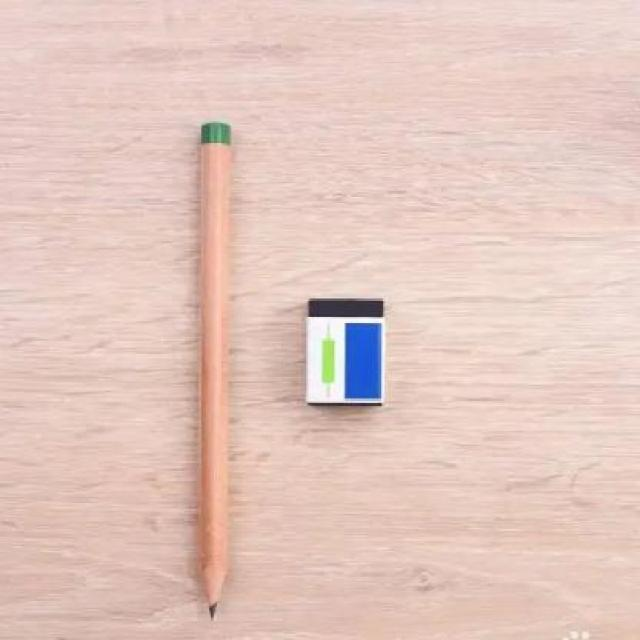pencil: (190, 116, 241, 630)
